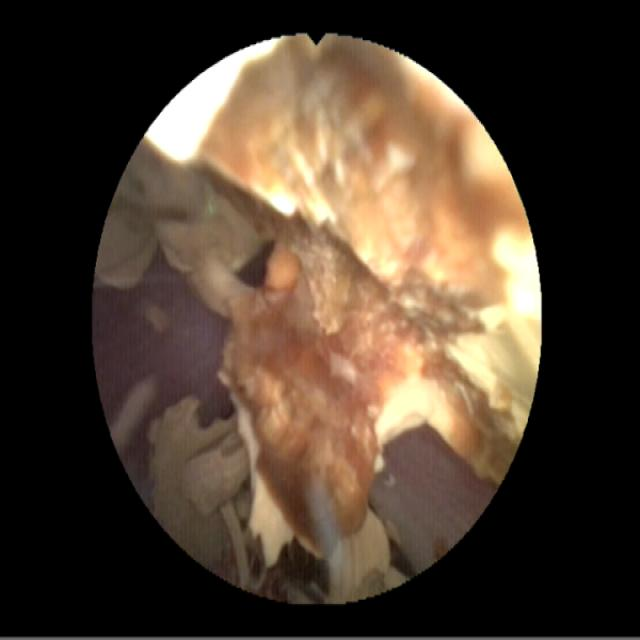stone: (101, 41, 533, 595), (111, 373, 154, 442)
